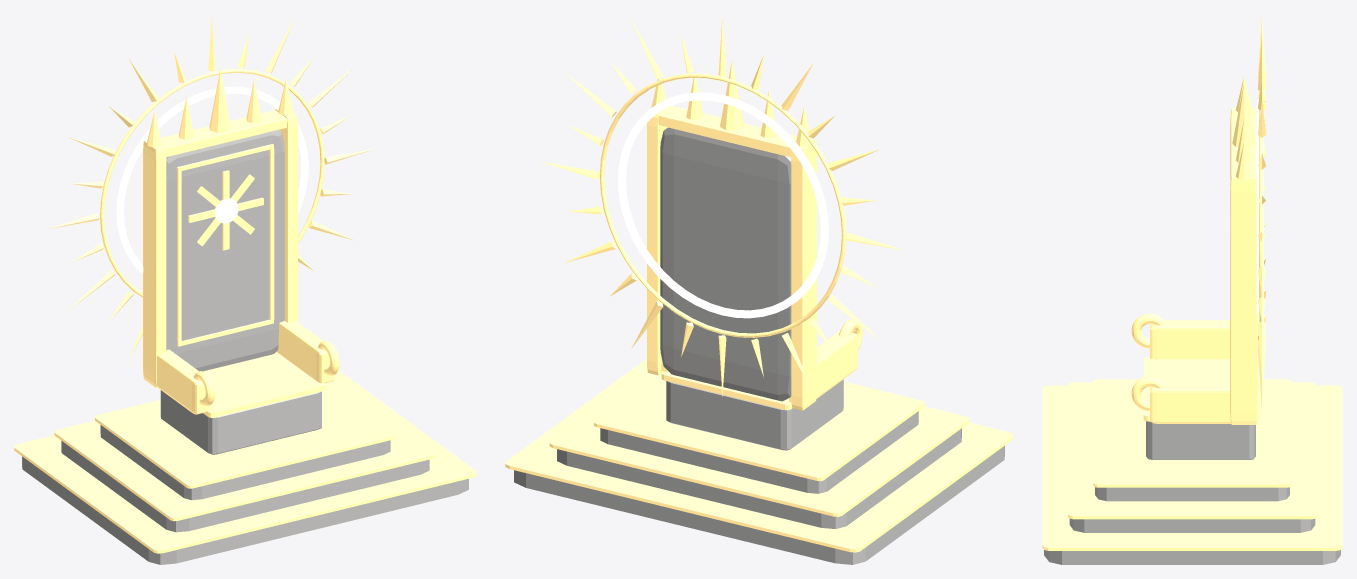
File: TronoCeleste.glb
The picture shows the model from 3 angles, left to right: view 1: azimuth 30°, elevation 25°; view 2: azimuth 150°, elevation 25°; view 3: azimuth 270°, elevation 25°; orthographic projection. The views are drawn at different scales.
Visible parts, largest first — view 1: Trono; view 2: Trono; view 3: Trono.
Part boxes in pixels (left/top/right/bottom): Trono: left=14, top=14, right=476, bottom=564; Trono: left=505, top=15, right=1013, bottom=564; Trono: left=1042, top=16, right=1342, bottom=564.
Size of the model in its own units: 9.4 by 11.8 by 7.08.
